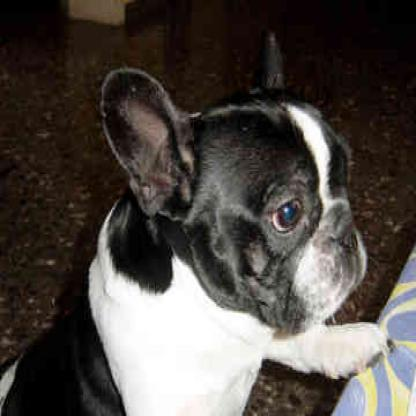French_bulldog: (0, 26, 395, 413)
